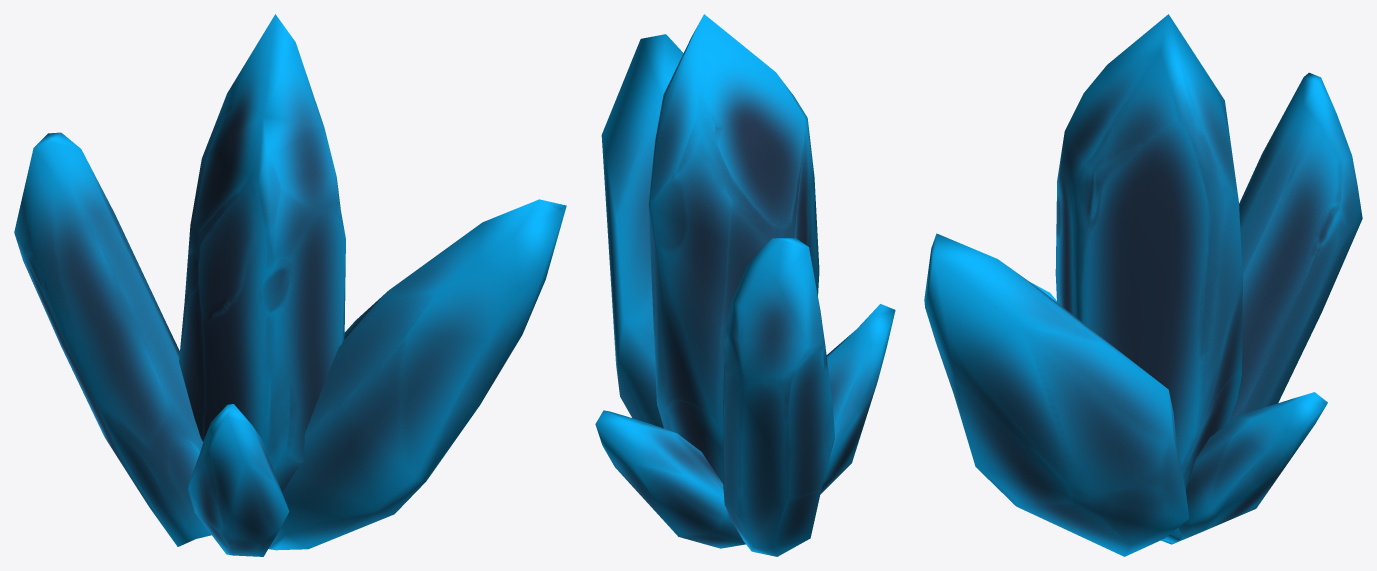
File: Crystal02.fbx
The picture shows the model from 3 angles, left to right: view 1: azimuth 30°, elevation 25°; view 2: azimuth 150°, elevation 25°; view 3: azimuth 270°, elevation 25°; orthographic projection. The views are drawn at different scales.
Visible parts, largest first — view 1: Crystal02; view 2: Crystal02; view 3: Crystal02.
Boxes of the visible parts, x1,y1,x2,y2 form: Crystal02: (14, 14, 566, 556); Crystal02: (595, 14, 895, 556); Crystal02: (924, 14, 1362, 556).
Size of the model in its own units: 28.71 by 39.85 by 29.15.
